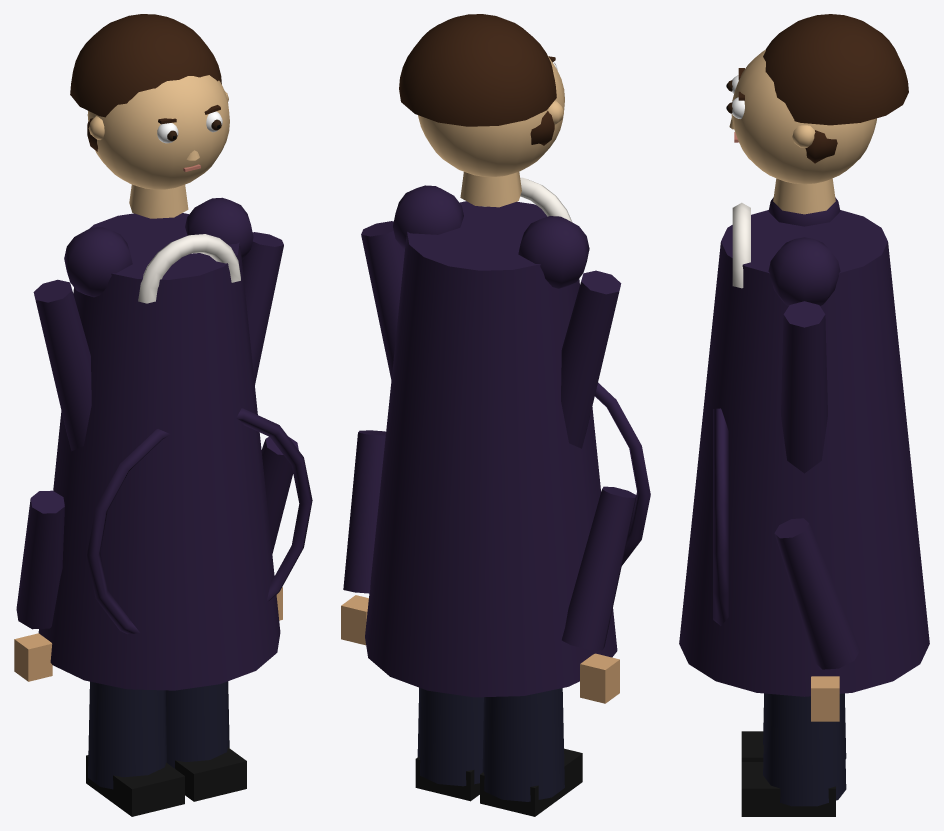
File: tercero.glb
3 views of the same model, side by side, from view 1: azimuth 30°, elevation 25°; view 2: azimuth 150°, elevation 25°; view 3: azimuth 270°, elevation 25° (orthographic). The views are drawn at different scales.
Visible parts, largest first — view 1: TERCERO; view 2: TERCERO; view 3: TERCERO.
Part boxes in pixels (x1,y1,x2,y2): TERCERO: (14, 14, 312, 816); TERCERO: (341, 14, 650, 816); TERCERO: (679, 14, 929, 816).
Bounding box in the file's own units: 0.5996 × 1.62 × 0.48.
